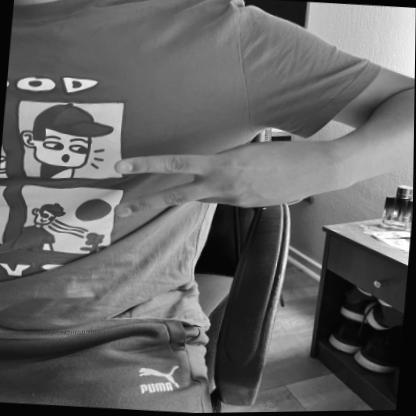H: (109, 131, 333, 232)
